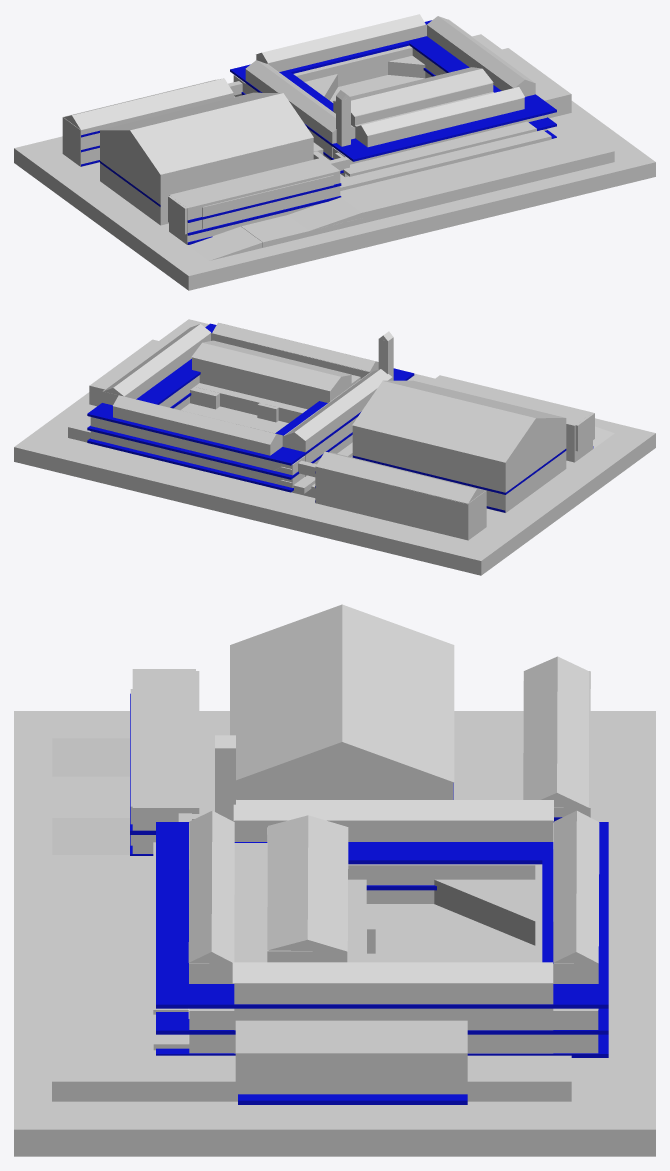
File: map.glb
3 views of the same model, one above another, from view 1: azimuth 30°, elevation 25°; view 2: azimuth 150°, elevation 25°; view 3: azimuth 270°, elevation 25° (orthographic). The views are drawn at different scales.
Visible parts, largest first — view 1: Building_MainHall, Target_gray_103, Target_gray_401.001, Target_gray_401.002; view 2: Building_MainHall, Target_gray_103, Target_gray_102, Target_gray_101, Target_gray_203; view 3: Building_MainHall, Target_gray_103, Target_gray_201.001, Target_gray_102, Target_gray_101.
Boxes of the visible parts, box(x1,y1,x2,y2) form: Building_MainHall: box(14, 14, 655, 290); Target_gray_103: box(230, 20, 556, 161); Target_gray_401.001: box(187, 196, 341, 235); Target_gray_401.002: box(187, 183, 341, 222); Building_MainHall: box(14, 319, 655, 575); Target_gray_103: box(87, 323, 414, 465); Target_gray_102: box(87, 393, 352, 479); Target_gray_101: box(87, 438, 293, 492); Target_gray_203: box(352, 449, 566, 494); Building_MainHall: box(14, 604, 655, 1156); Target_gray_103: box(156, 822, 608, 1008); Target_gray_201.001: box(238, 1094, 467, 1104); Target_gray_102: box(156, 885, 608, 1034); Target_gray_101: box(156, 1034, 608, 1057).
Size of the model in its own units: 122 by 26.19 by 79.08.
